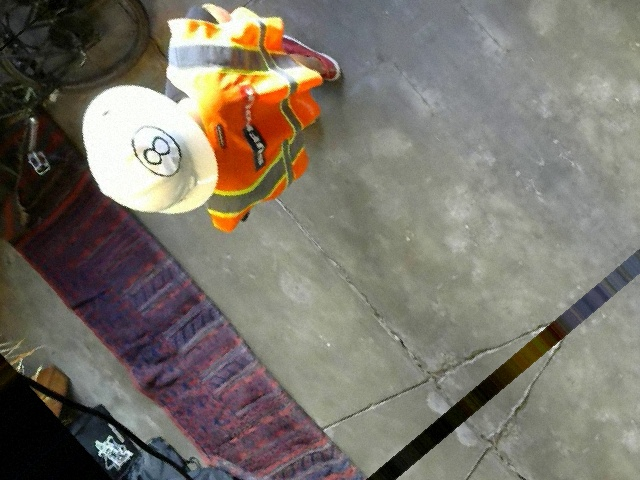eight: (125, 118, 192, 185)
